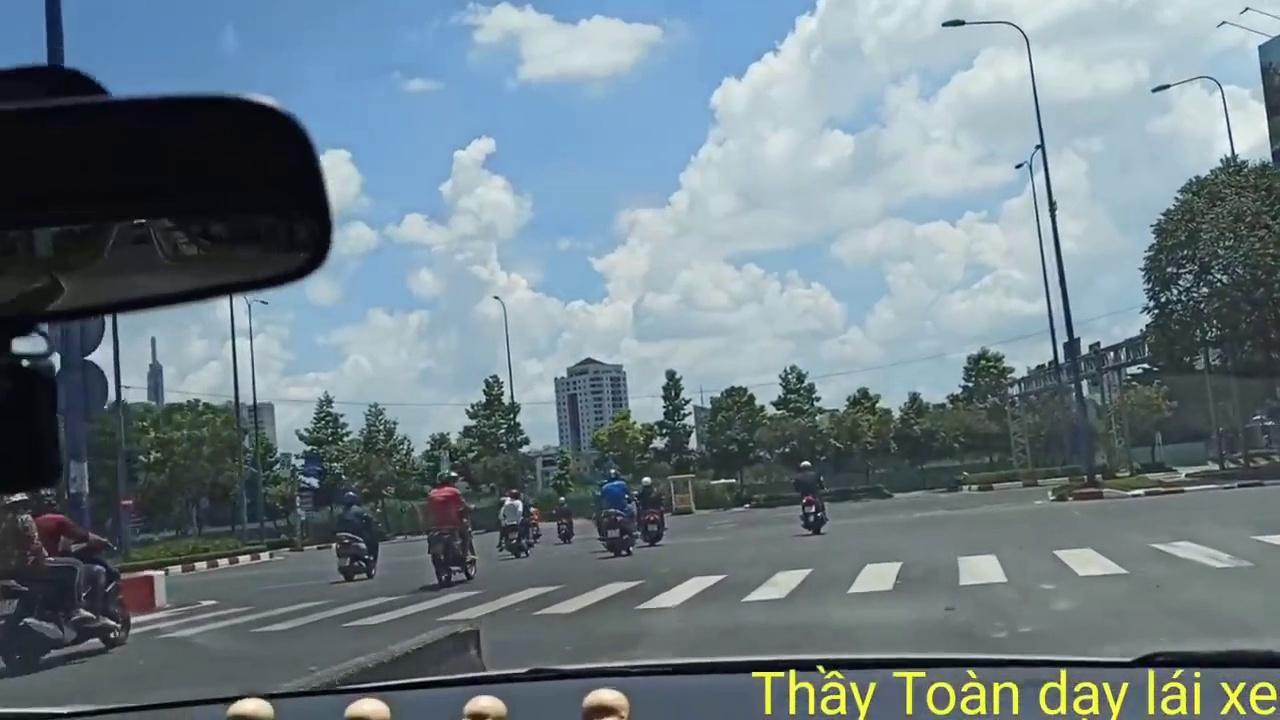Cấm đi ngược chiều: (118, 491, 137, 514)
